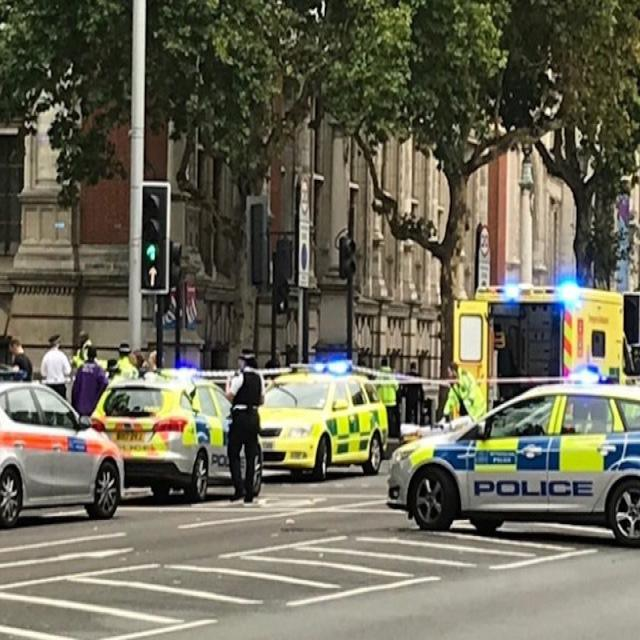body: (223, 345, 267, 504), (438, 358, 488, 426), (39, 332, 73, 428), (70, 343, 110, 417), (401, 360, 424, 427), (109, 340, 141, 381), (8, 334, 34, 382), (130, 347, 166, 377), (69, 329, 94, 371), (263, 345, 281, 380), (103, 357, 123, 380), (379, 357, 393, 372)
